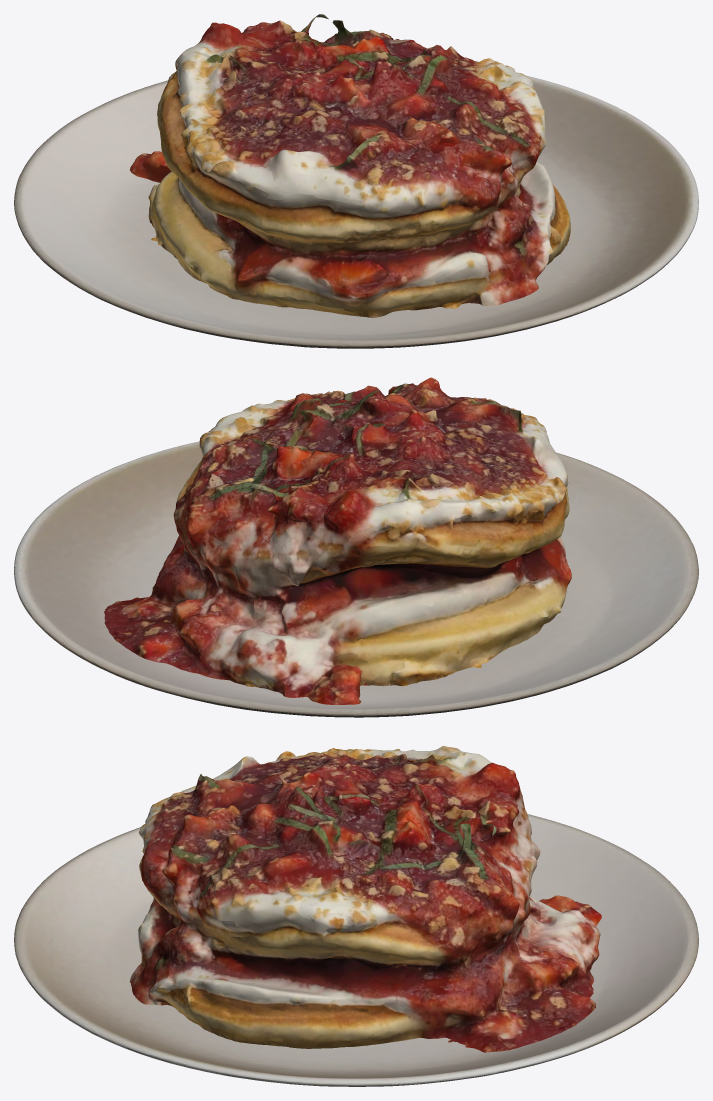
Rendered from pancake.With.strawberries.and.cream.cheese.001.glb.
The picture shows the model from 3 angles, top to bottom: view 1: azimuth 30°, elevation 25°; view 2: azimuth 150°, elevation 25°; view 3: azimuth 270°, elevation 25°; orthographic projection.
Parts seen in each view (by area): view 1: /Root/Scenes/Scene/Object_38/Object_39/Submesh_0, /Root/Scenes/Scene/Object_38/Object_42/Object_43/Submesh_0; view 2: /Root/Scenes/Scene/Object_38/Object_39/Submesh_0, /Root/Scenes/Scene/Object_38/Object_42/Object_43/Submesh_0; view 3: /Root/Scenes/Scene/Object_38/Object_39/Submesh_0, /Root/Scenes/Scene/Object_38/Object_42/Object_43/Submesh_0.
Boxes of the visible parts, bbox=[...] form: /Root/Scenes/Scene/Object_38/Object_39/Submesh_0: bbox=[130, 14, 570, 317]; /Root/Scenes/Scene/Object_38/Object_42/Object_43/Submesh_0: bbox=[14, 75, 698, 348]; /Root/Scenes/Scene/Object_38/Object_39/Submesh_0: bbox=[104, 377, 571, 704]; /Root/Scenes/Scene/Object_38/Object_42/Object_43/Submesh_0: bbox=[14, 441, 698, 717]; /Root/Scenes/Scene/Object_38/Object_39/Submesh_0: bbox=[129, 746, 601, 1052]; /Root/Scenes/Scene/Object_38/Object_42/Object_43/Submesh_0: bbox=[14, 814, 698, 1086].
Bounding box in the file's own units: 0.2801 × 0.0867 × 0.2801.
2 materials, 2 textured.
